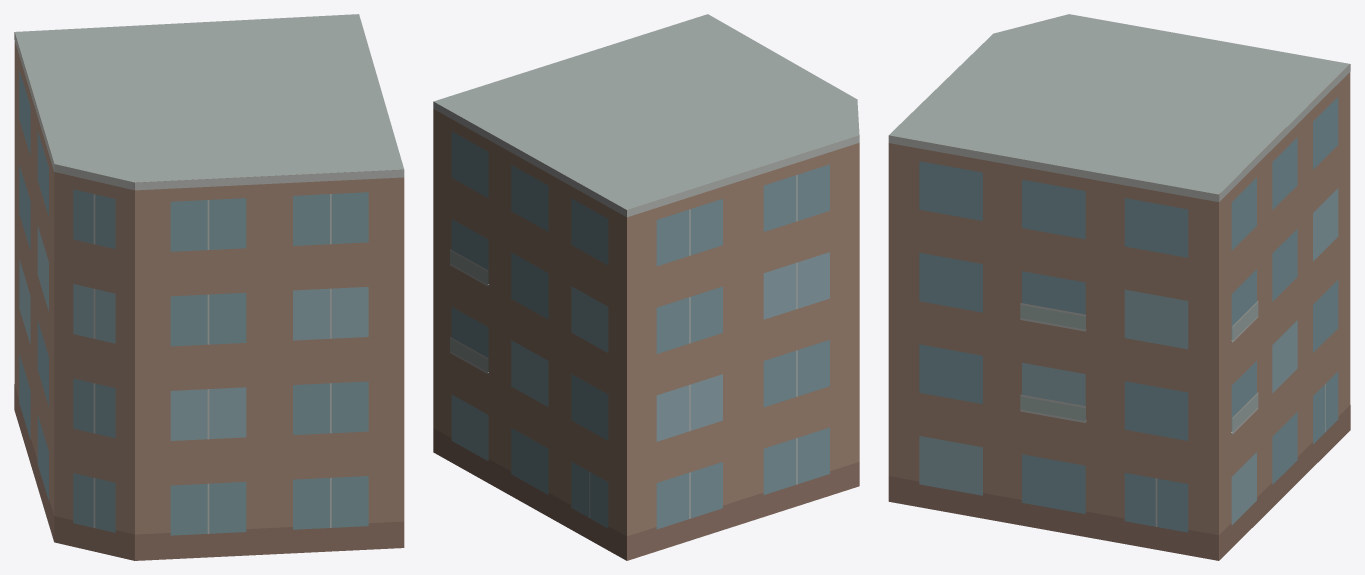
File: survey-upis-32667966.glb
3 views of the same model, side by side, from view 1: azimuth 30°, elevation 25°; view 2: azimuth 150°, elevation 25°; view 3: azimuth 270°, elevation 25° (orthographic). The views are drawn at different scales.
Visible parts, largest first — view 1: survey-upis-32667966.tmp; view 2: survey-upis-32667966.tmp; view 3: survey-upis-32667966.tmp.
Part boxes in pixels (box(x1,y1,x2,y2)): survey-upis-32667966.tmp: box(14, 14, 404, 560); survey-upis-32667966.tmp: box(433, 14, 859, 560); survey-upis-32667966.tmp: box(888, 14, 1350, 560).
Bounding box in the file's own units: 12.36 × 11.68 × 13.36.
